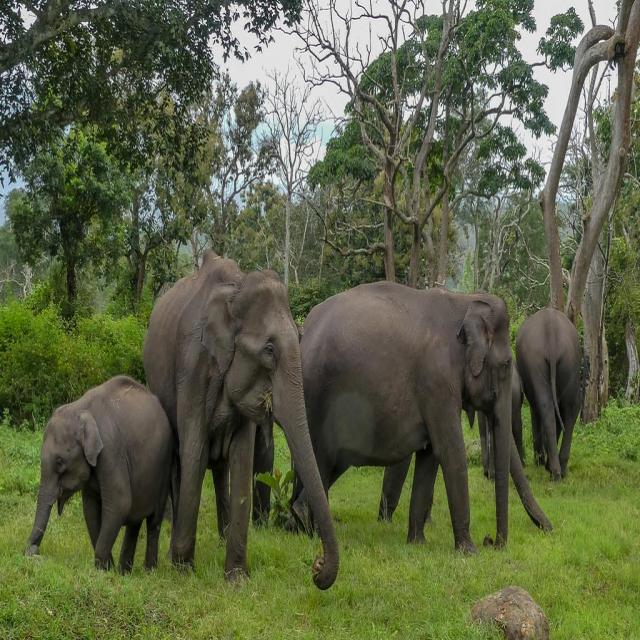Elephant: (152, 250, 340, 593), (285, 281, 514, 554), (25, 373, 173, 573), (514, 304, 594, 478)
